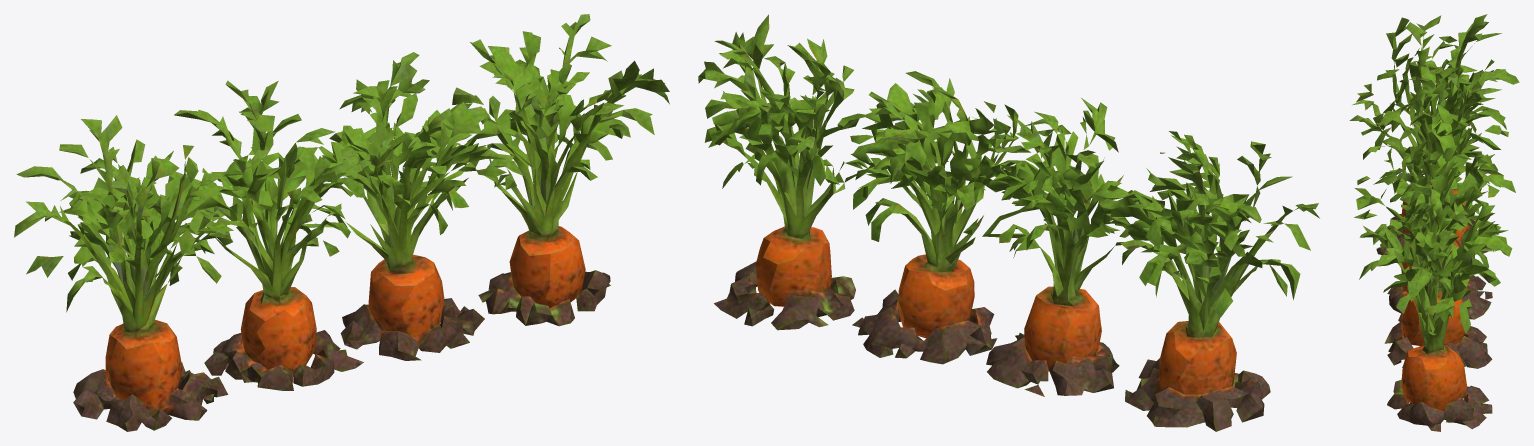
File: crop_carrot_lite.glb
3 renders of one model, left to right at view 1: azimuth 30°, elevation 25°; view 2: azimuth 150°, elevation 25°; view 3: azimuth 270°, elevation 25°, orthographic. The views are drawn at different scales.
Visible parts, largest first — view 1: geometry_0; view 2: geometry_0; view 3: geometry_0.
Part boxes in pixels (x1=…): geometry_0: x1=14, y1=14, x2=669, y2=431; geometry_0: x1=698, y1=14, x2=1319, y2=431; geometry_0: x1=1349, y1=14, x2=1519, y2=431.
Size of the model in its own units: 1.88 by 0.76 by 0.5306.
Materials: 1 (1 with a texture image).
